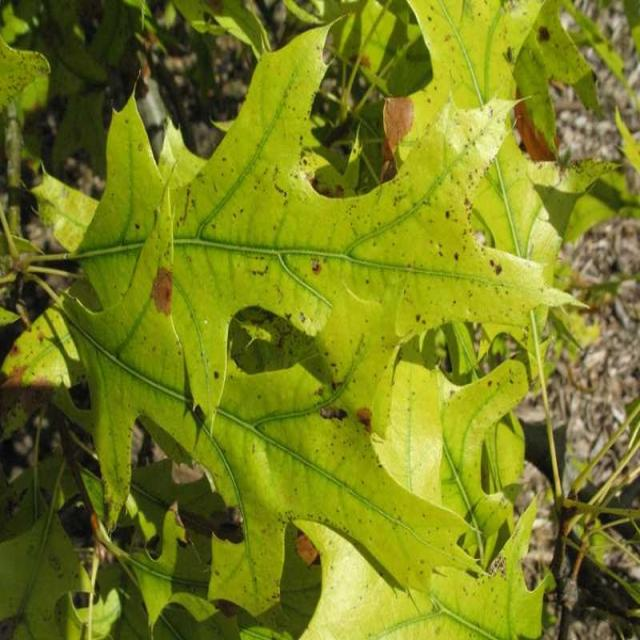Chlorosis: (7, 14, 592, 581)
